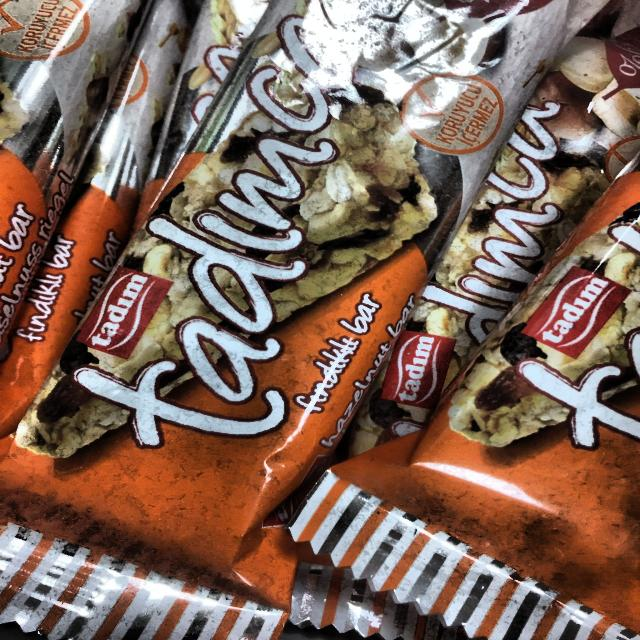Plastic: (6, 0, 599, 630)
